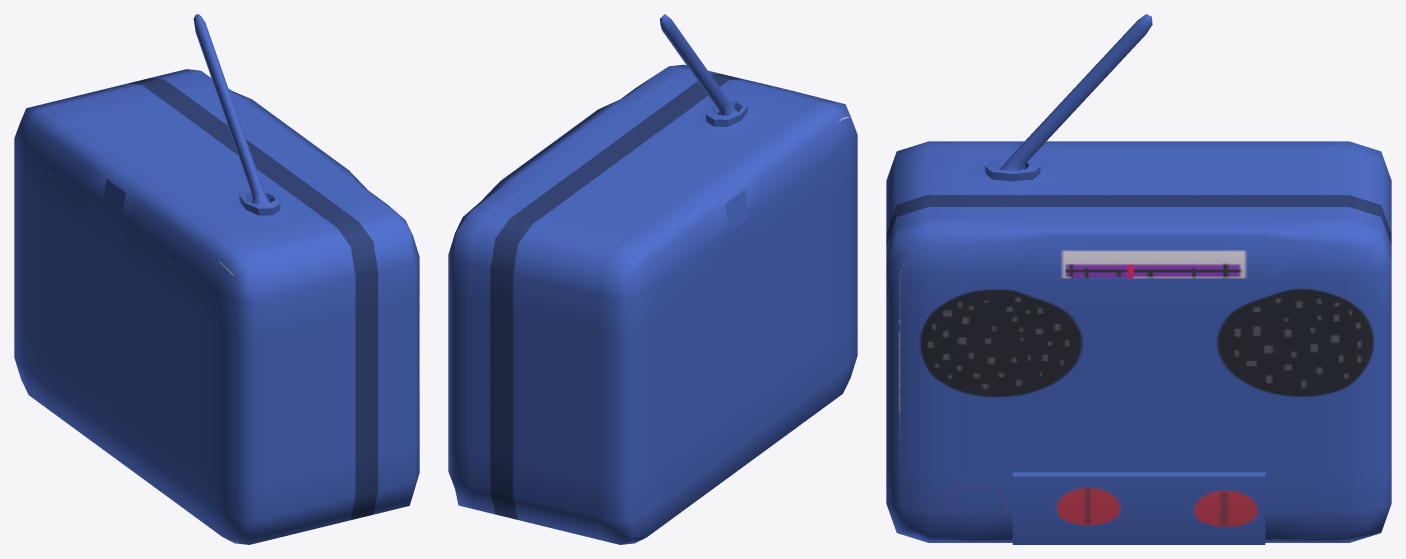
Rendered from Obj_vid_11_Radio_low_poly.fbx.
The picture shows the model from 3 angles, left to right: view 1: azimuth 30°, elevation 25°; view 2: azimuth 150°, elevation 25°; view 3: azimuth 270°, elevation 25°; orthographic projection. The views are drawn at different scales.
Visible parts, largest first — view 1: Obj_vid_11_Radio_low_poly; view 2: Obj_vid_11_Radio_low_poly; view 3: Obj_vid_11_Radio_low_poly.
Part boxes in pixels (x1,y1,x2,y2): Obj_vid_11_Radio_low_poly: [14, 14, 419, 544]; Obj_vid_11_Radio_low_poly: [448, 14, 857, 544]; Obj_vid_11_Radio_low_poly: [886, 14, 1391, 544].
Size of the model in its own units: 0.2515 by 0.5279 by 0.5061.
